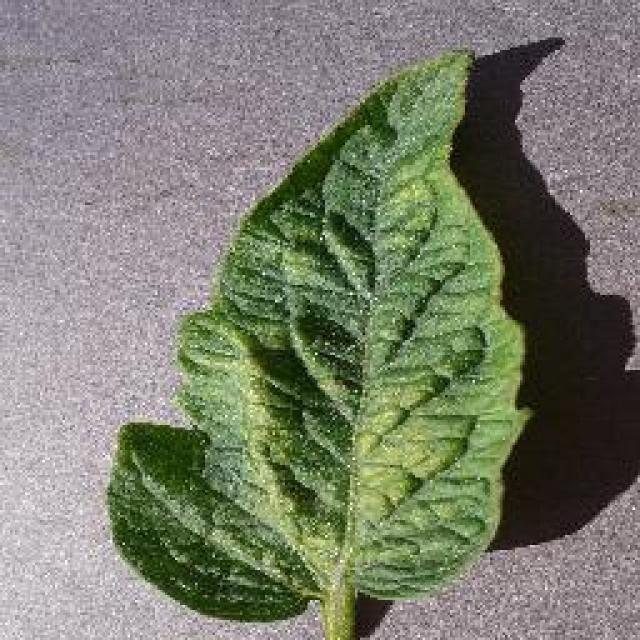Tomato spider mites leaf: (108, 49, 532, 618)
